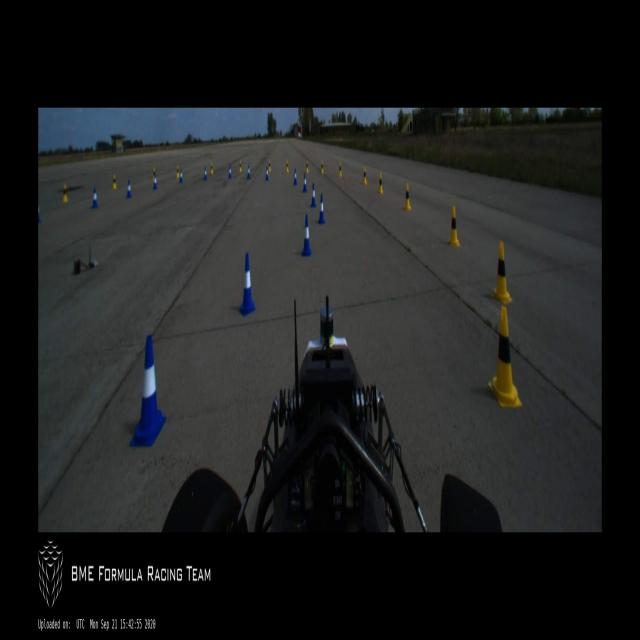blue_cone: (132, 334, 166, 446), (239, 252, 256, 317), (302, 214, 311, 257), (318, 193, 325, 224), (91, 187, 98, 208), (311, 183, 316, 208), (126, 180, 132, 198), (302, 174, 307, 192), (153, 172, 157, 191), (293, 169, 297, 185), (265, 166, 269, 182), (228, 165, 232, 180), (179, 169, 183, 183), (204, 166, 207, 182), (247, 165, 250, 180)
yellow_cone: (488, 308, 522, 408), (492, 242, 512, 303), (448, 206, 459, 246), (404, 183, 411, 211), (378, 172, 383, 194), (62, 185, 68, 203), (112, 173, 117, 190), (363, 166, 367, 185), (338, 161, 342, 177), (320, 160, 324, 174), (210, 163, 214, 175), (305, 160, 309, 172), (153, 168, 156, 182), (176, 164, 179, 178), (240, 160, 242, 172), (268, 160, 270, 172), (286, 160, 288, 172)
